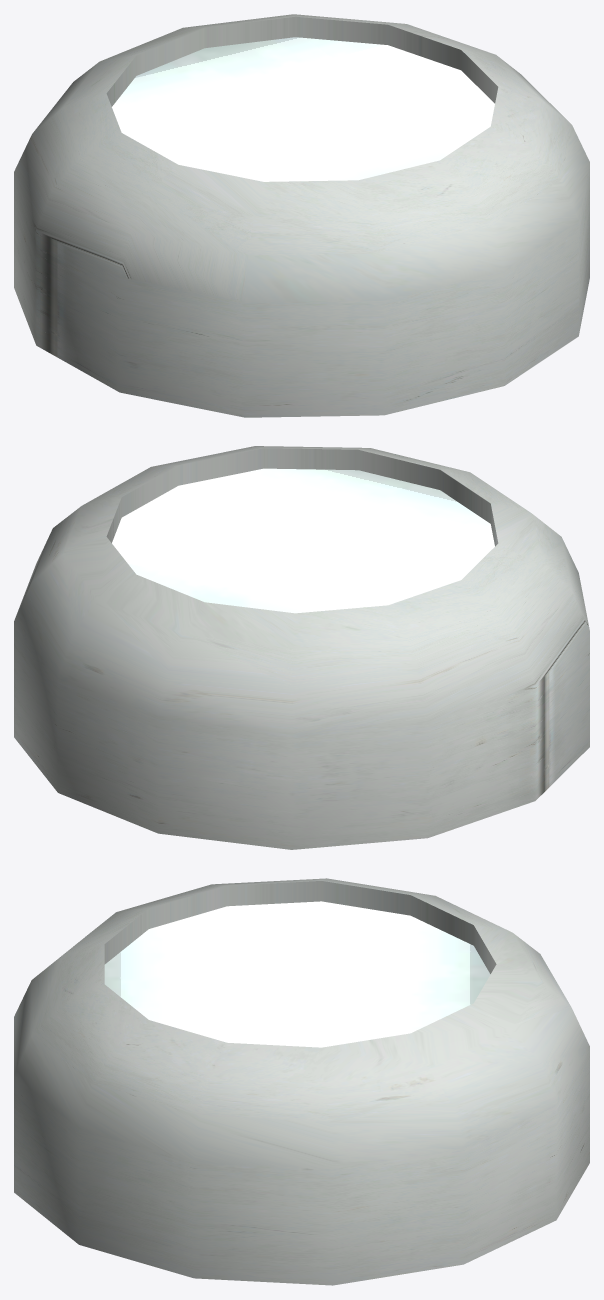
The model's file is STA20_potlight01.FBX.
The picture shows the model from 3 angles, top to bottom: view 1: azimuth 30°, elevation 25°; view 2: azimuth 150°, elevation 25°; view 3: azimuth 270°, elevation 25°; orthographic projection.
Visible parts, largest first — view 1: STA20_potlight01; view 2: STA20_potlight01; view 3: STA20_potlight01.
Part boxes in pixels (x1,y1,x2,y2): STA20_potlight01: [14, 14, 589, 417]; STA20_potlight01: [14, 446, 589, 849]; STA20_potlight01: [14, 878, 589, 1285].
Bounding box in the file's own units: 0.3068 × 0.1159 × 0.3046.
